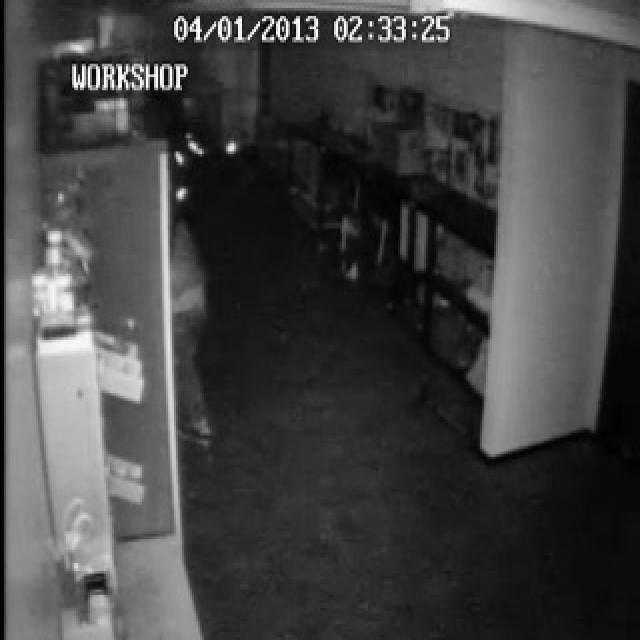thief: (171, 212, 215, 458)
